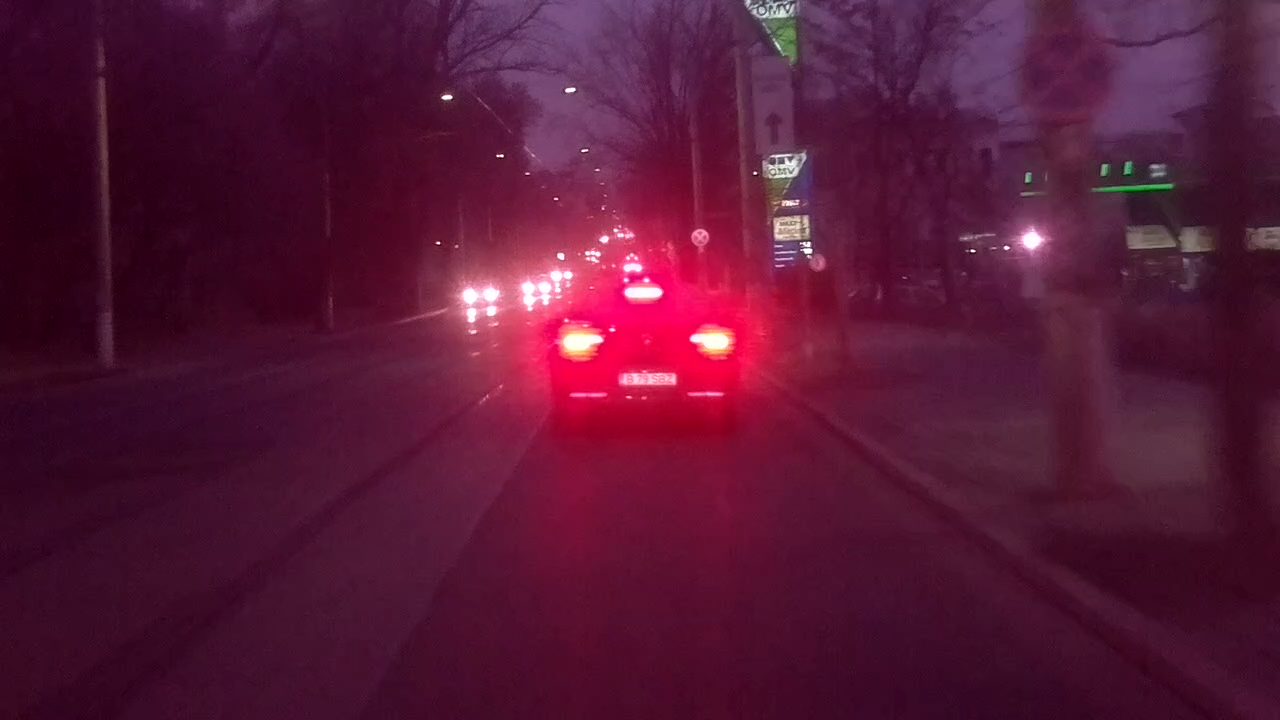license-plate: (613, 369, 681, 388)
